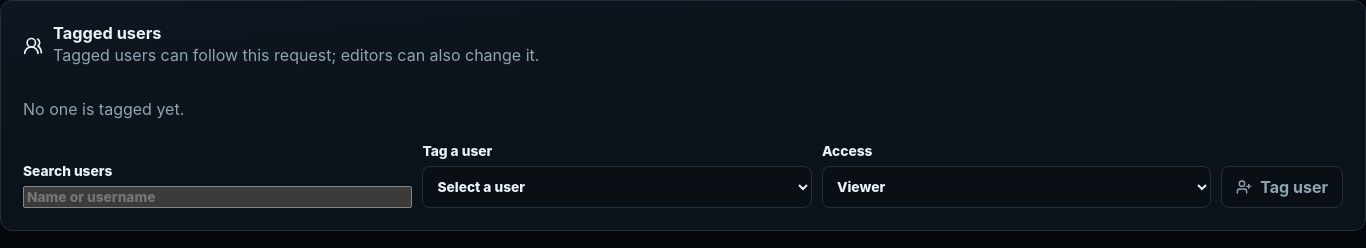
reports directory search failures
Type "abc" into the field labelled "Search users" at (218, 197), box top-left (23, 186), bottom-right (412, 208)
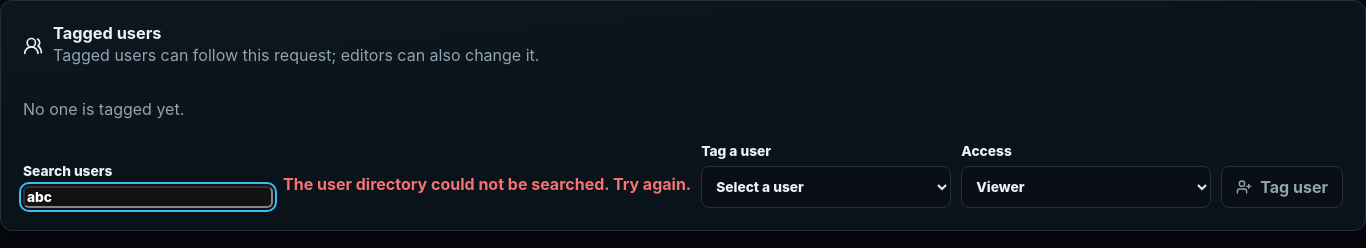
Check: the text "The user directory could not be searched. Try again." is shown, box top-left (283, 174), bottom-right (691, 194)
